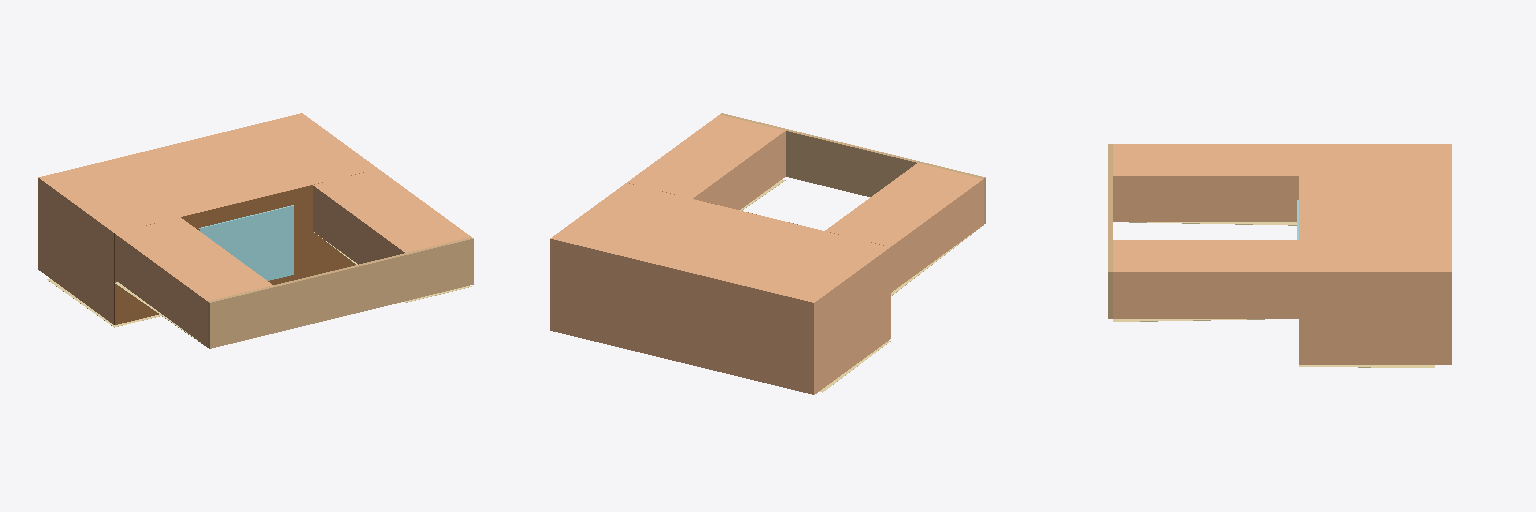
The model's file is tinker.obj.
3 views of the same model, side by side, from view 1: azimuth 30°, elevation 25°; view 2: azimuth 150°, elevation 25°; view 3: azimuth 270°, elevation 25° (orthographic).
Visible parts, largest first — view 1: obj_0; view 2: obj_0; view 3: obj_0.
Boxes of the visible parts, <box> form: obj_0: <box>38,113,473,348</box>; obj_0: <box>550,113,985,394</box>; obj_0: <box>1108,144,1451,367</box>.
Bounding box in the file's own units: 18 × 6.25 × 20.25.